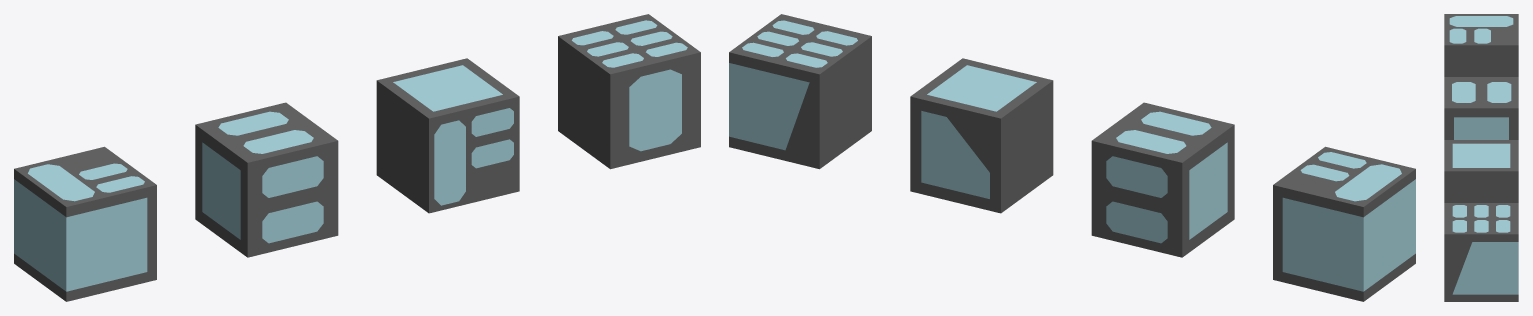
File: SmallBlocks.fbx
The picture shows the model from 3 angles, left to right: view 1: azimuth 30°, elevation 25°; view 2: azimuth 150°, elevation 25°; view 3: azimuth 270°, elevation 25°; orthographic projection. The views are drawn at different scales.
Parts seen in each view (by area): view 1: Cube.014, Cube.015, Cube.013, Cube.016; view 2: Cube.014, Cube.015, Cube.013, Cube.016; view 3: Cube.016, Cube.013, Cube.014, Cube.015.
Part boxes in pixels (x1=…): Cube.014: x1=195, y1=102, x2=338, y2=257; Cube.015: x1=376, y1=58, x2=519, y2=213; Cube.013: x1=14, y1=146, x2=156, y2=301; Cube.016: x1=558, y1=14, x2=700, y2=169; Cube.014: x1=1091, y1=102, x2=1234, y2=257; Cube.015: x1=910, y1=58, x2=1053, y2=213; Cube.013: x1=1273, y1=146, x2=1415, y2=301; Cube.016: x1=729, y1=14, x2=871, y2=169; Cube.016: x1=1444, y1=203, x2=1518, y2=301; Cube.013: x1=1444, y1=14, x2=1518, y2=76; Cube.014: x1=1444, y1=77, x2=1518, y2=139; Cube.015: x1=1444, y1=140, x2=1518, y2=202.
Bounding box in the file's own units: 700 × 100 × 100.
